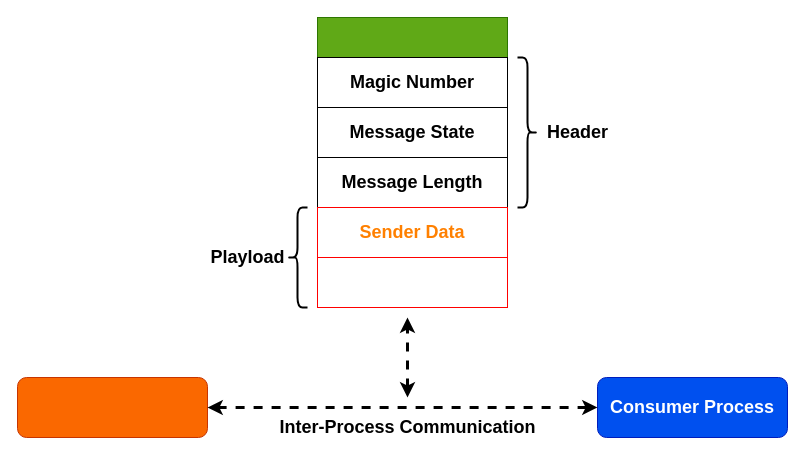
The diagram is 805 pixels wide and 465 high, and some of its shapes have lost their labels. Here are the shapes that lost their labels. From the top down, the centre of each, then its label:
the point at 412,37: Message
the point at 412,282: Receiver Data
the point at 112,407: Producer Process
